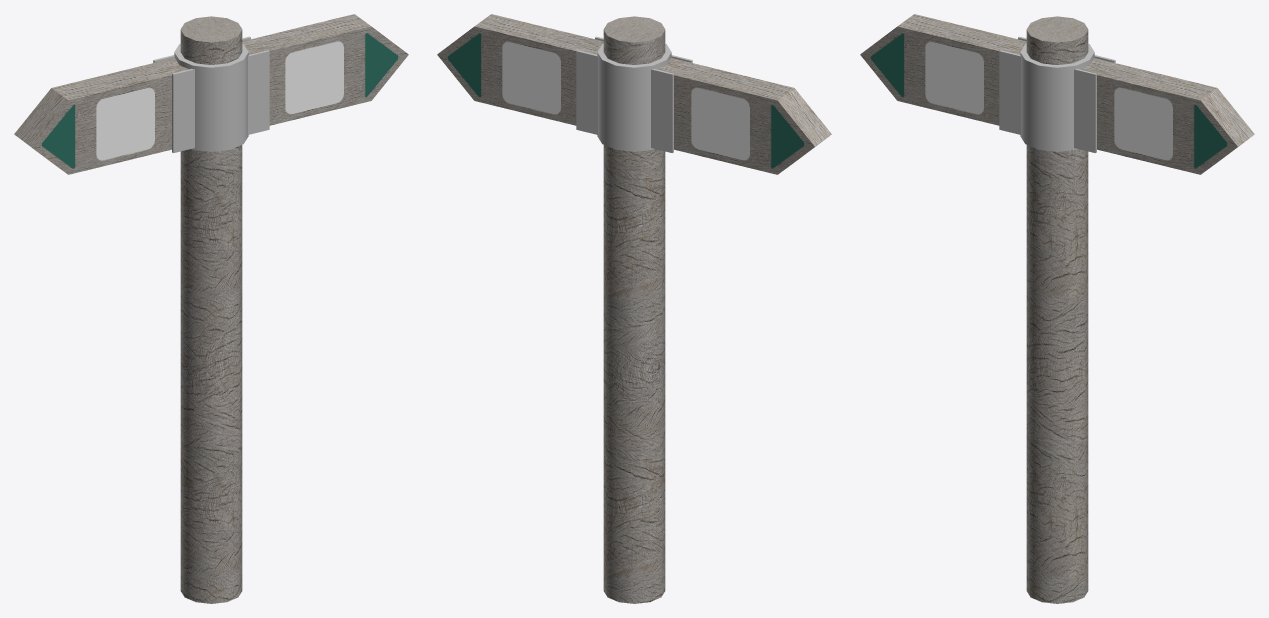
The model's file is cartel direcciones.FBX.
3 renders of one model, left to right at view 1: azimuth 30°, elevation 25°; view 2: azimuth 150°, elevation 25°; view 3: azimuth 330°, elevation 25°, orthographic.
Visible parts, largest first — view 1: Cylinder001, cartele direccione, Cylinder002, Box001; view 2: Cylinder001, cartele direccione, Cylinder002, Box002; view 3: Cylinder001, cartele direccione, Cylinder002, Box001.
Part boxes in pixels (<box>): Cylinder001: <box>180,16,242,603</box>; cartele direccione: <box>14,14,408,174</box>; Cylinder002: <box>174,44,248,151</box>; Box001: <box>172,50,269,152</box>; Cylinder001: <box>603,16,665,603</box>; cartele direccione: <box>437,14,831,174</box>; Cylinder002: <box>597,44,671,151</box>; Box002: <box>576,50,673,152</box>; Cylinder001: <box>1026,16,1088,603</box>; cartele direccione: <box>860,14,1254,174</box>; Cylinder002: <box>1020,44,1094,151</box>; Box001: <box>999,50,1096,152</box>.
Size of the model in its own units: 1.41 by 2 by 0.24.
